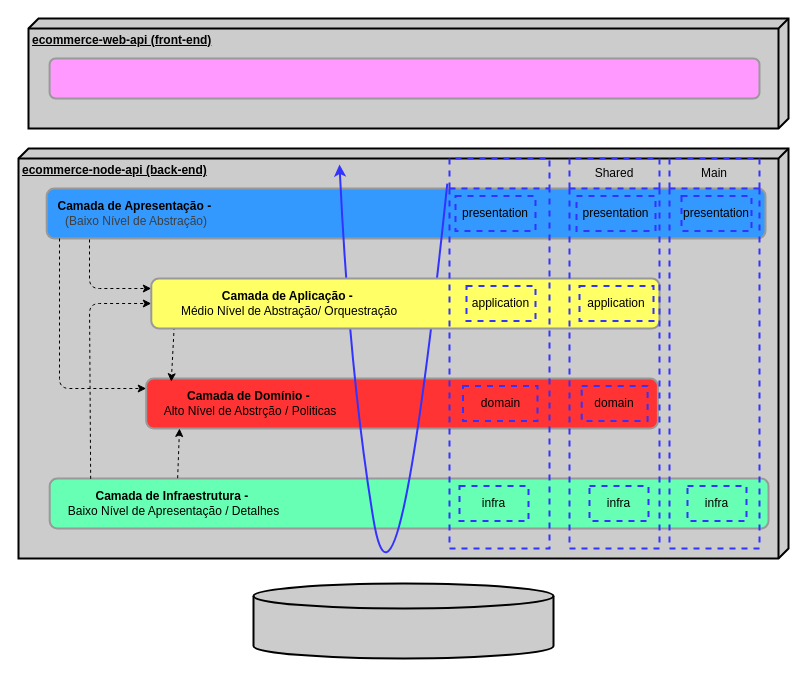
The diagram is 806 pixels wide and 676 high, and some of its shapes have lost their labels. The centre of each missing label's shape, as x and y in pixels:
Database (Relacional): (403,620)
Interface de Usuário: (404,78)
Modules: (499,353)
